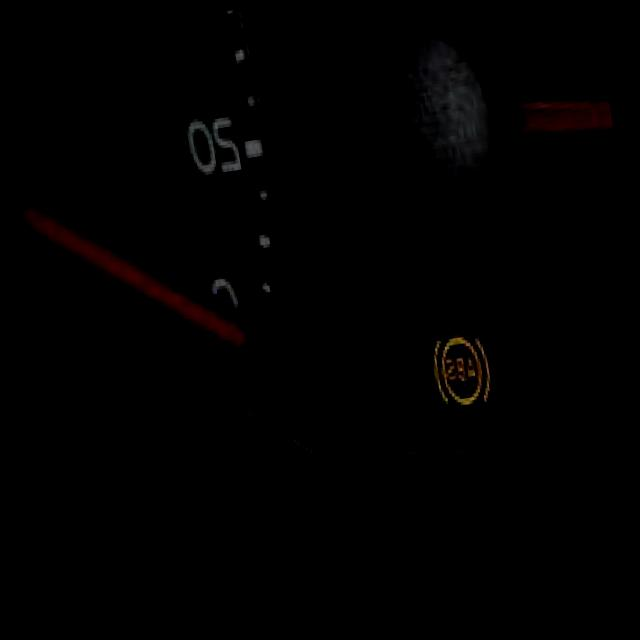kontrolka: (420, 318, 503, 417)
